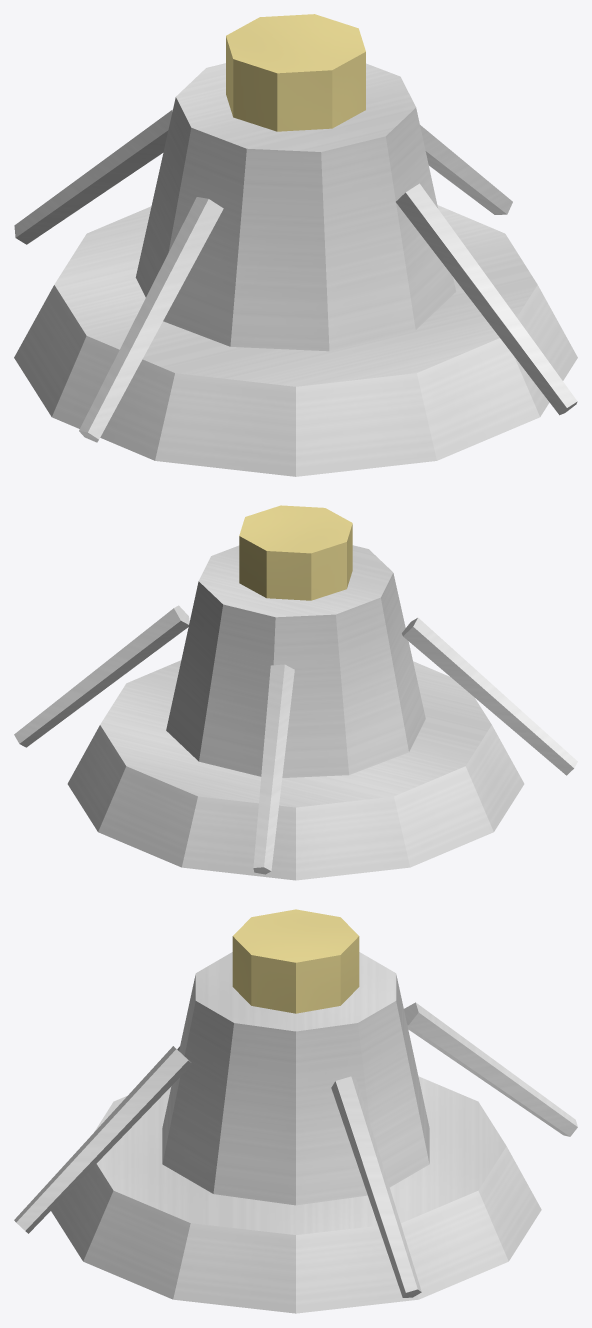
The model's file is gp_scanner.obj.
3 views of the same model, one above another, from view 1: azimuth 30°, elevation 25°; view 2: azimuth 150°, elevation 25°; view 3: azimuth 270°, elevation 25° (orthographic). The views are drawn at different scales.
Parts seen in each view (by area): view 1: gp_scanner; view 2: gp_scanner; view 3: gp_scanner.
Boxes of the visible parts, bbox=[...] form: gp_scanner: bbox=[14, 14, 577, 476]; gp_scanner: bbox=[14, 505, 577, 880]; gp_scanner: bbox=[14, 909, 577, 1313].
Size of the model in its own units: 1.61 by 0.86 by 1.61.
